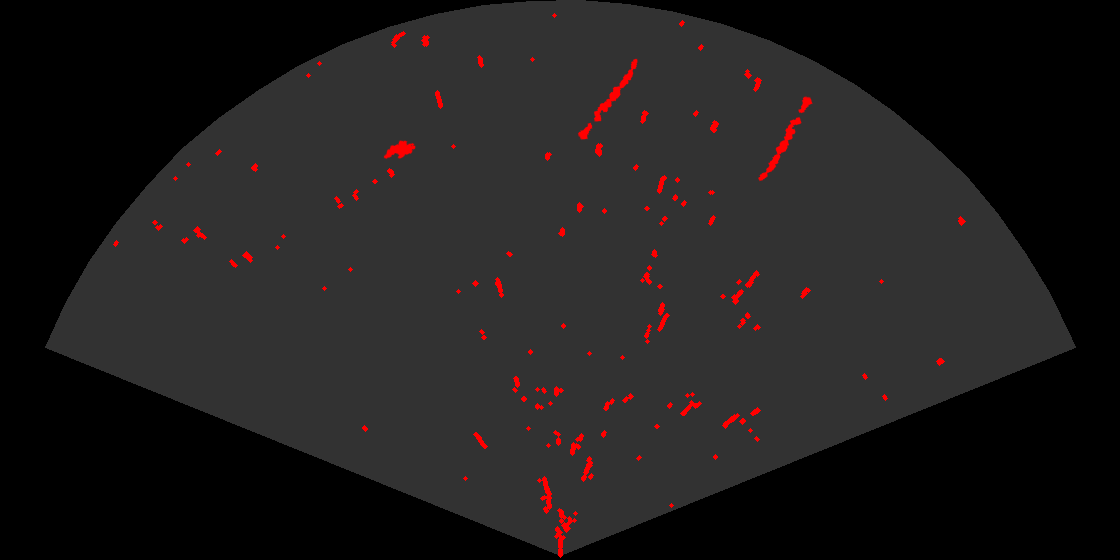AUV: (382, 139, 418, 161)
chain: (576, 57, 639, 141), (757, 95, 814, 182)
